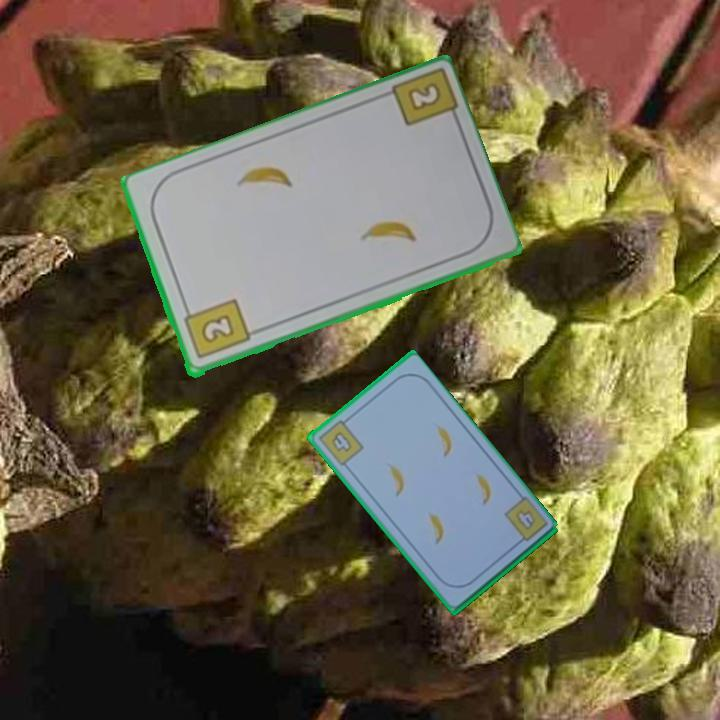2b: (179, 296, 253, 362), (403, 79, 444, 115)
4b: (315, 414, 366, 469), (511, 506, 538, 533)
